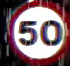Speed limit: (9, 0, 69, 63)
